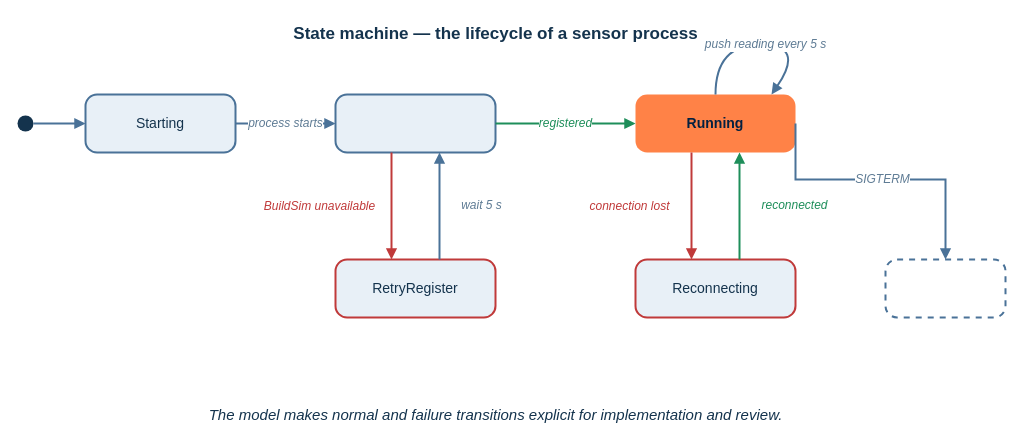
Some shapes in this 1023 by 444 pixel diagram are drawn without their labels. The shapes that lost their labels are listed below. From the top down, each one's centre as x and y in pixels, then its label:
At (415,123): "Registering".
At (945,288): "Stopped".
